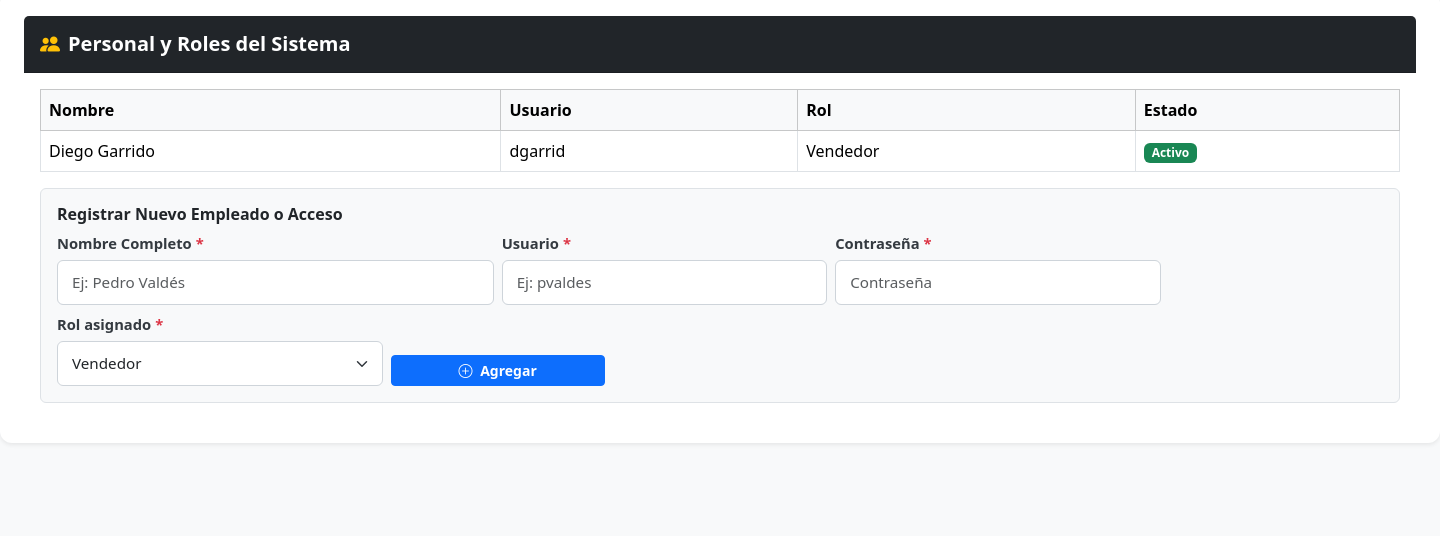
Scenario: FormularioNuevoUsuario › advierte cuando el nombre de usuario ya existe
Type "Diego Garrido Jr." into the field labelled "Nombre Completo *" at (275, 283), box [57, 260, 494, 305]
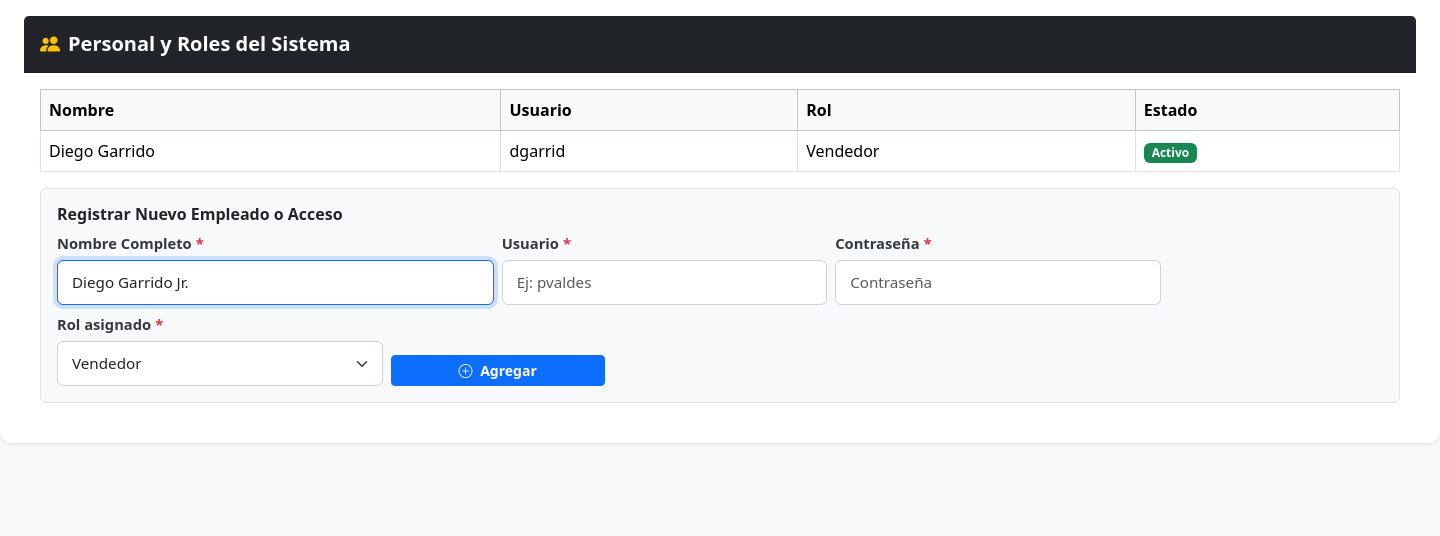
Type "dgarrid" into the field labelled "Usuario *" at (664, 283), box [502, 260, 827, 305]
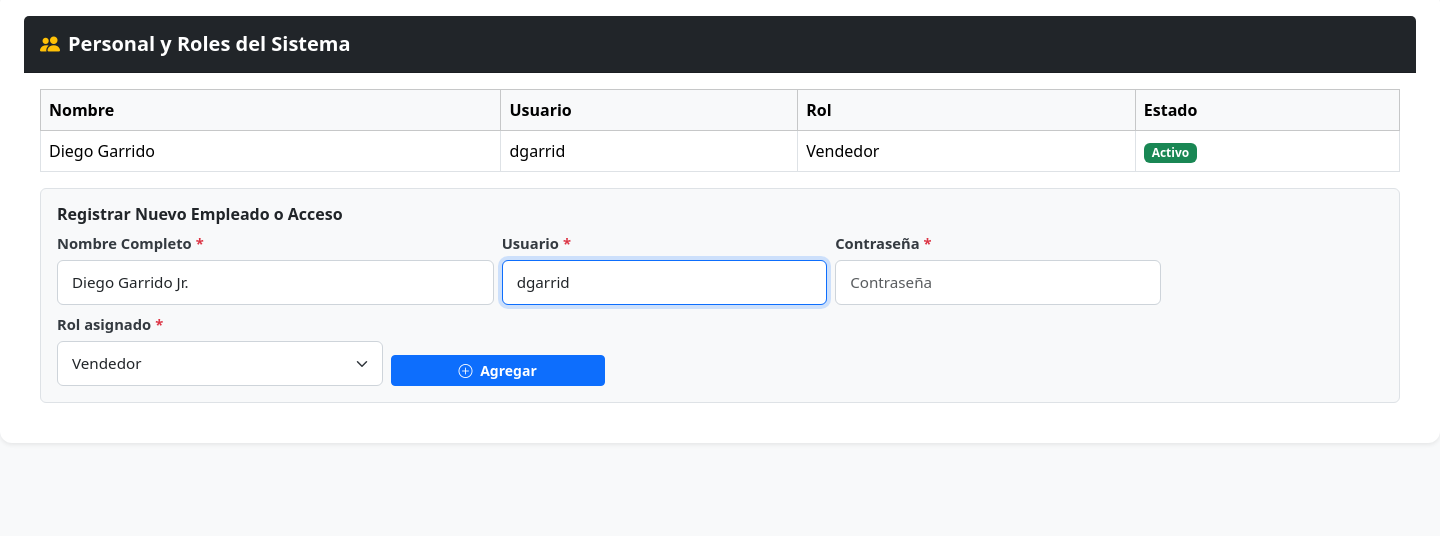
Type "4321" into the password field labelled "Contraseña *" at (998, 283), box [835, 260, 1161, 305]
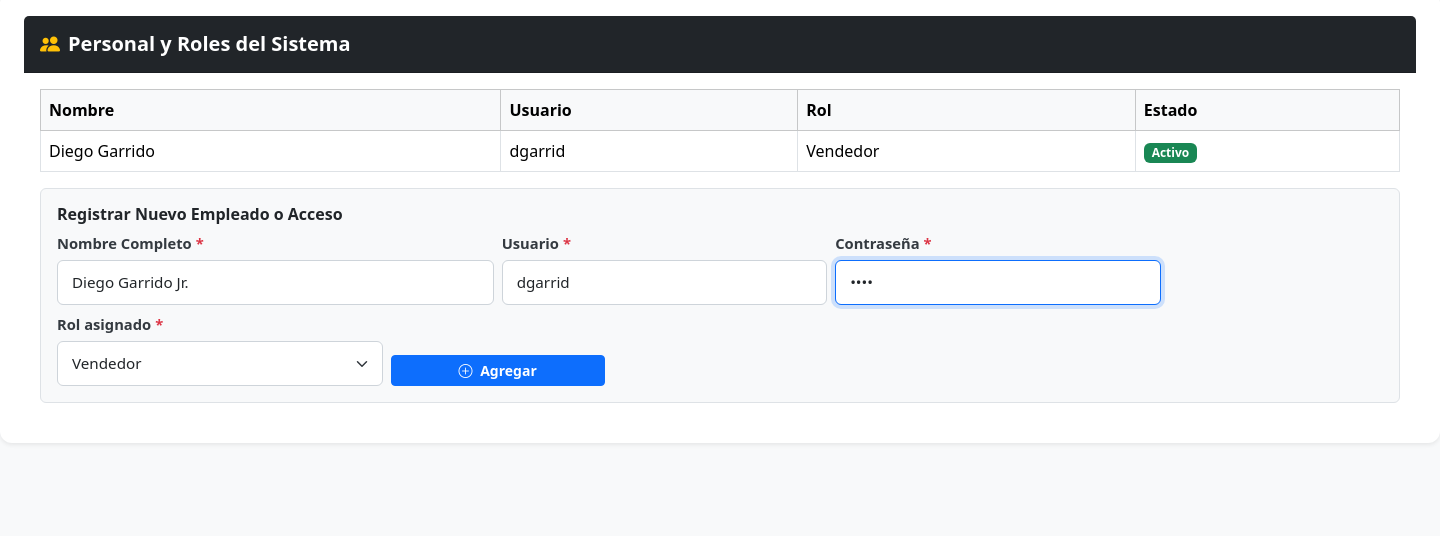
Click the button "Agregar" at (498, 371), box [390, 355, 605, 386]
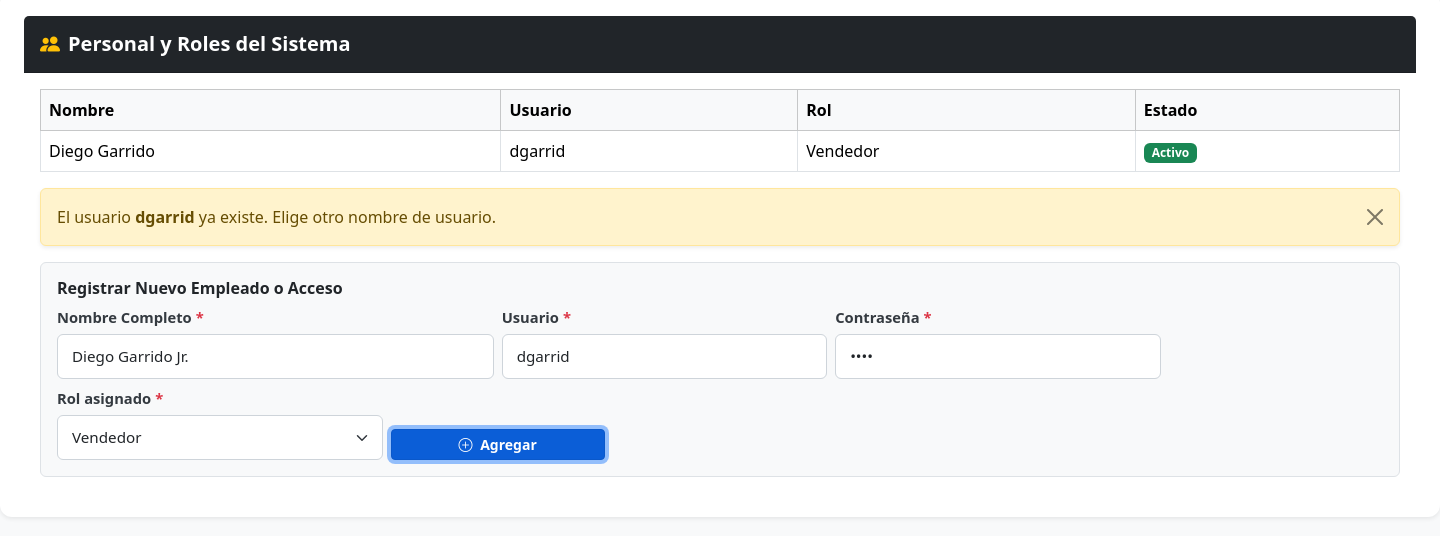
Expected: the text "El usuario dgarrid ya existe. Elige otro nombre de usuario." is shown, [57, 206, 496, 228]
